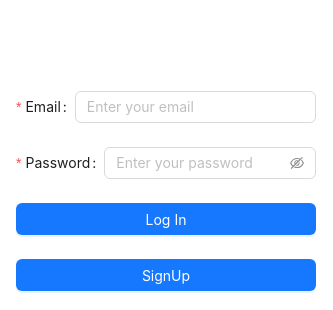
Testing Login Page › Testing Login Page for successful login
Type "test@example.com" into the field labelled "Email" at (195,107), box [75, 91, 316, 123]
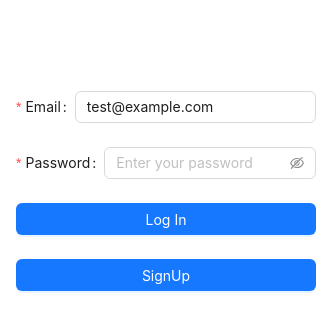
Type "password123" into the password field labelled "Password" at (201,163), box [116, 152, 286, 174]
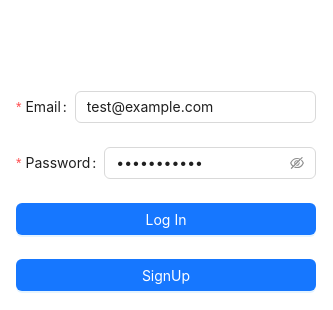
Click the button "Log In" at (166,219), box [16, 203, 316, 235]
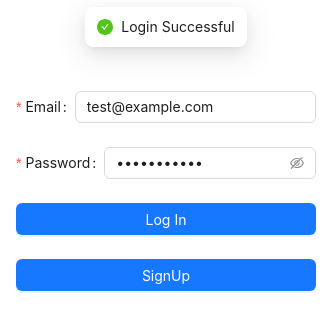
Result: the text "Login Successful" is shown at [121, 16, 235, 38]
